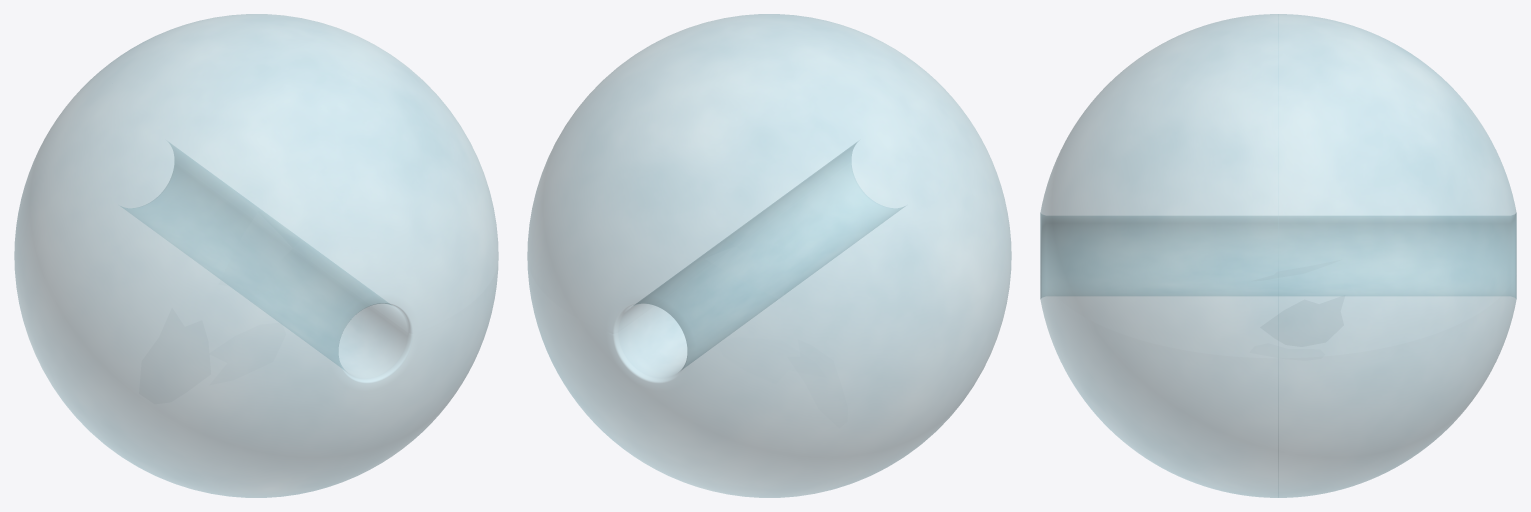
Rendered from aquamarine-6mm.glb.
The picture shows the model from 3 angles, left to right: view 1: azimuth 30°, elevation 25°; view 2: azimuth 150°, elevation 25°; view 3: azimuth 270°, elevation 25°; orthographic projection.
Parts seen in each view (by area): view 1: aquamarine.001; view 2: aquamarine.001; view 3: aquamarine.001.
Boxes of the visible parts, <box> form: aquamarine.001: <box>14,14,498,497</box>; aquamarine.001: <box>527,14,1011,497</box>; aquamarine.001: <box>1040,14,1516,497</box>.
Bounding box in the file's own units: 0.006 × 0.006 × 0.0059.
Materials: 2 (1 with a texture image).
